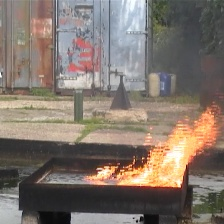fire: (88, 101, 221, 185)
